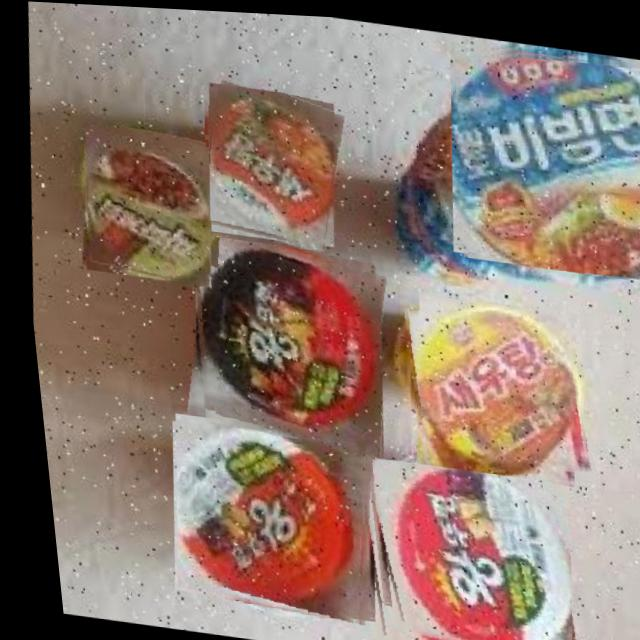Miscellaneous: (433, 32, 640, 278), (165, 230, 390, 454), (148, 411, 373, 626), (337, 451, 573, 640), (386, 284, 595, 486), (188, 79, 348, 250), (65, 120, 217, 286)
